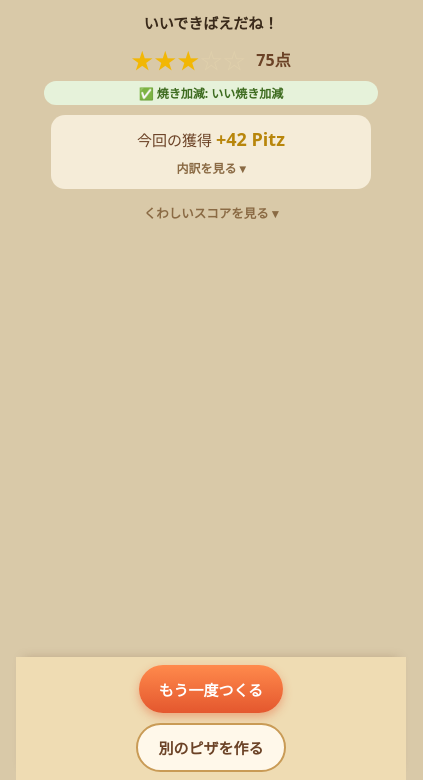
Test: ResultPanel › reveals the full Pitz breakdown (基本報酬/出来栄え倍率/所持Pitz), none dropped, once opened
The image size is (423, 780).
Click the heading "内訳を見る": click(206, 168) left=176, top=160, right=236, bottom=177
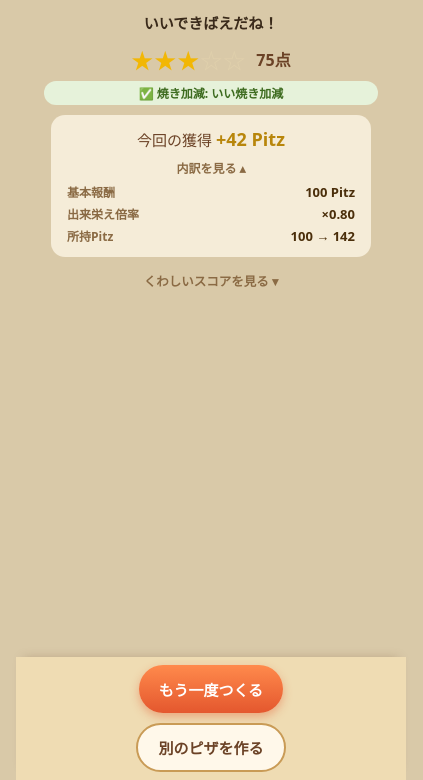
Check: the text "基本報酬" is shown, box left=67, top=183, right=115, bottom=201
Check: the text "100 Pitz" is shown, box left=305, top=183, right=355, bottom=201
Check: the text "出来栄え倍率" is shown, box left=67, top=205, right=139, bottom=223
